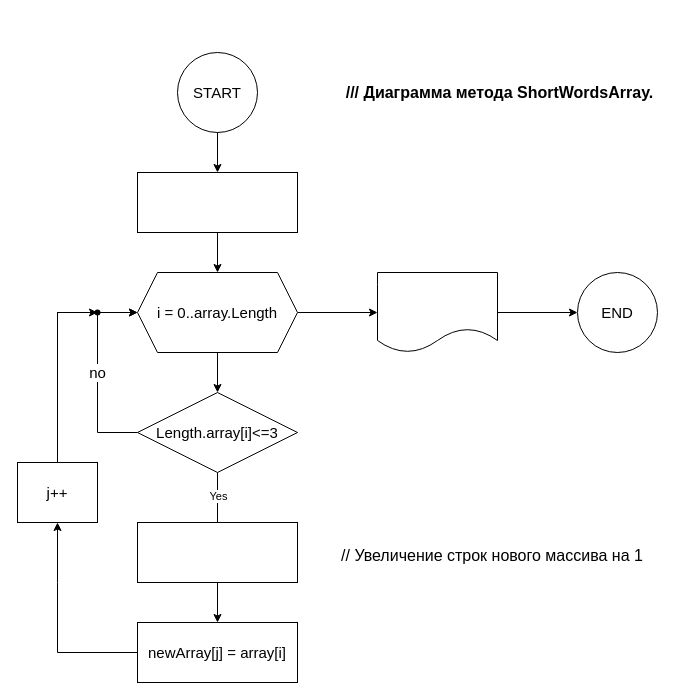
Some shapes in this 675 by 700 pixel diagram are drawn without their labels. Here are the shapes that lost their labels. From the top down, the centre of each, then its label:
At pixel 217 202: "j = 0".
At pixel 437 312: "newArray".
At pixel 217 552: "resize newArray".
